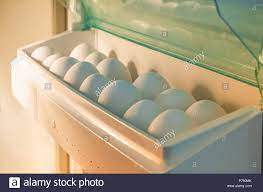eggs: (16, 26, 248, 154)
